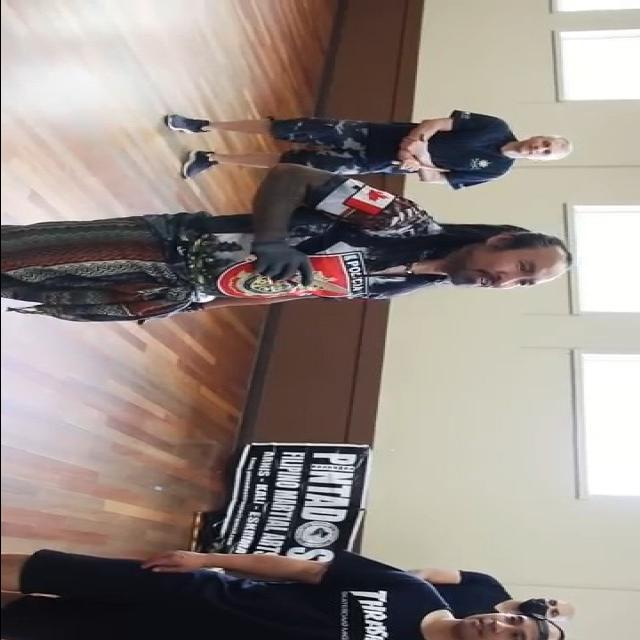Sharp-Object: (245, 262, 348, 296)
